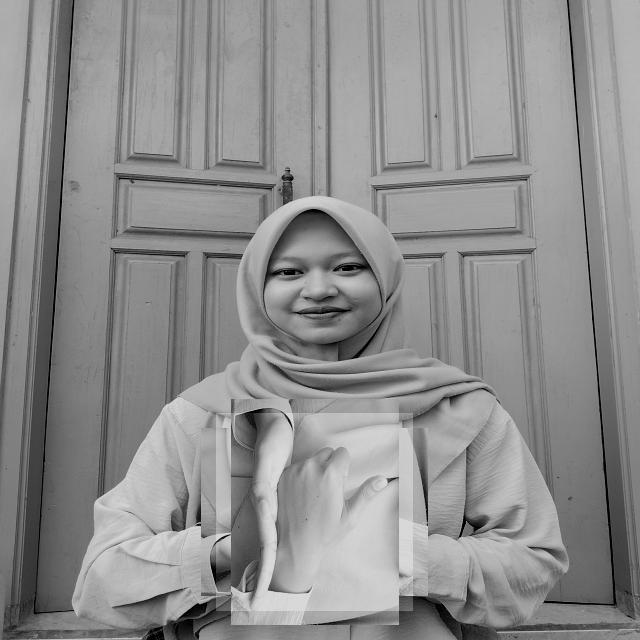cantik: (216, 413, 413, 611)
